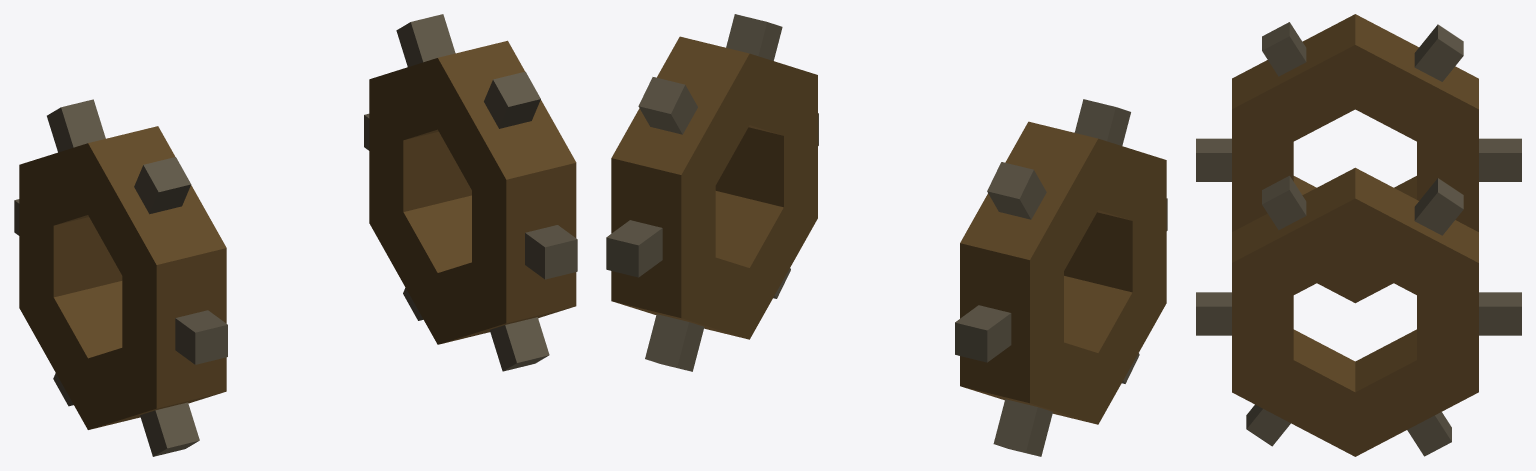
Rendered from gear_pair_big.fbx.
3 renders of one model, left to right at view 1: azimuth 30°, elevation 25°; view 2: azimuth 150°, elevation 25°; view 3: azimuth 270°, elevation 25°, orthographic. The views are drawn at different scales.
Parts seen in each view (by area): view 1: polySurface360; view 2: polySurface360; view 3: polySurface360.
Part boxes in pixels (left/top/right/bottom): polySurface360: left=14, top=14, right=577, bottom=456; polySurface360: left=606, top=14, right=1167, bottom=456; polySurface360: left=1196, top=14, right=1521, bottom=456.
Size of the model in its own units: 70.92 by 47.83 by 52.95.
Materials: 1 (1 with a texture image).
